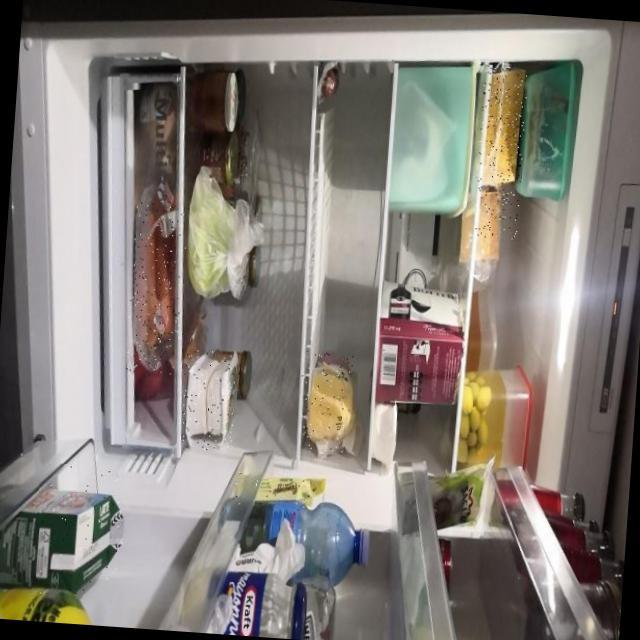Mantequilla: (229, 468, 323, 512)
Queso: (472, 64, 528, 239), (178, 349, 237, 452), (296, 350, 354, 453)
Zanahoria: (124, 202, 188, 377)
milk: (30, 463, 122, 599)
